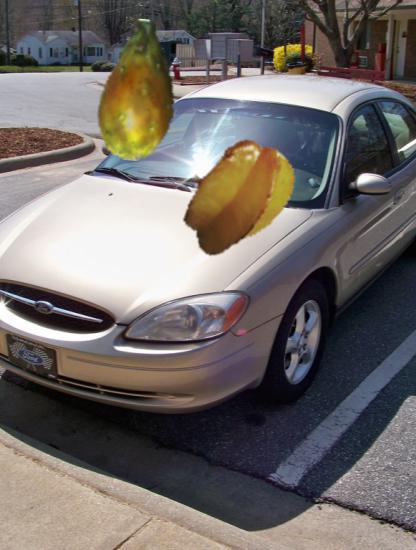Cactus: (68, 19, 210, 161)
Carambula: (171, 132, 300, 261)
